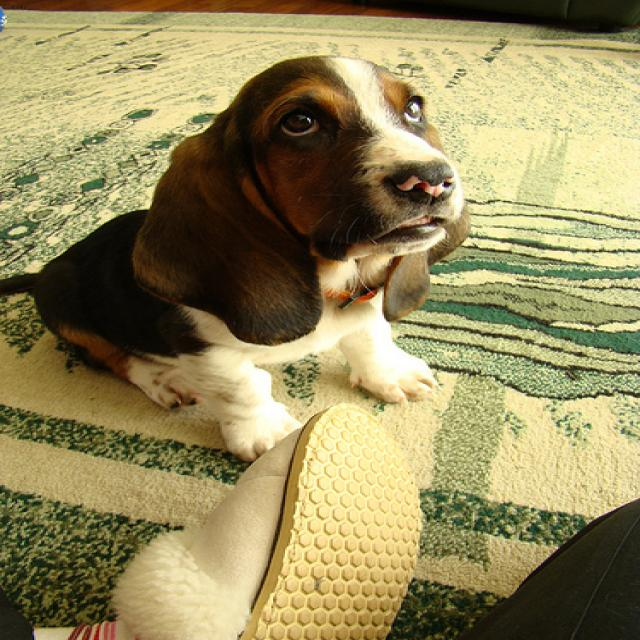dog-basset_hound: (2, 50, 481, 476)
